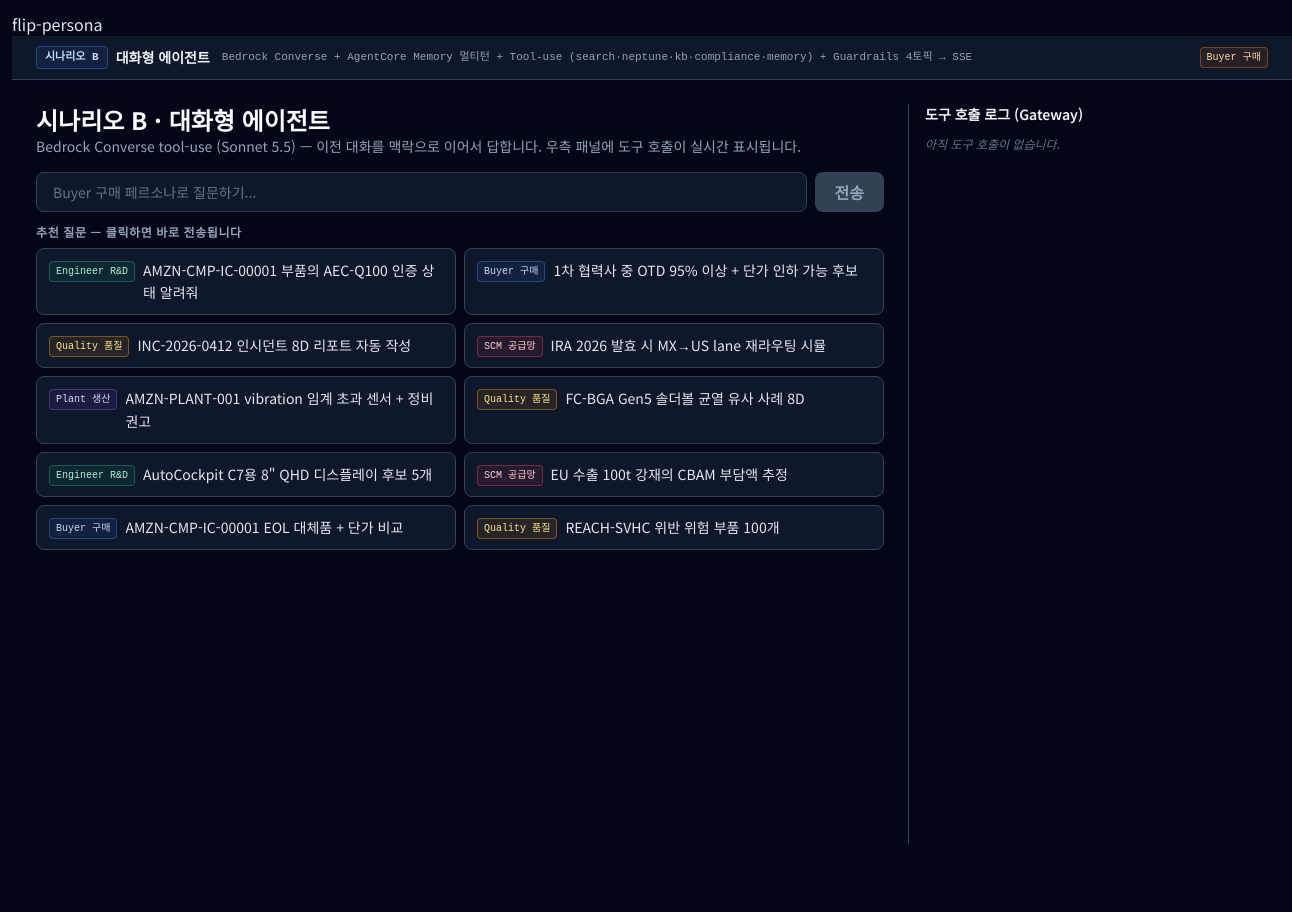
ChatPage › renders backend `error` events instead of an empty assistant bubble
Click the button "Buyer 구매 1차 협력사 중 OTD 95% 이상 + 단가 인하 가능 후보": click(674, 281) [464,248,884,315]
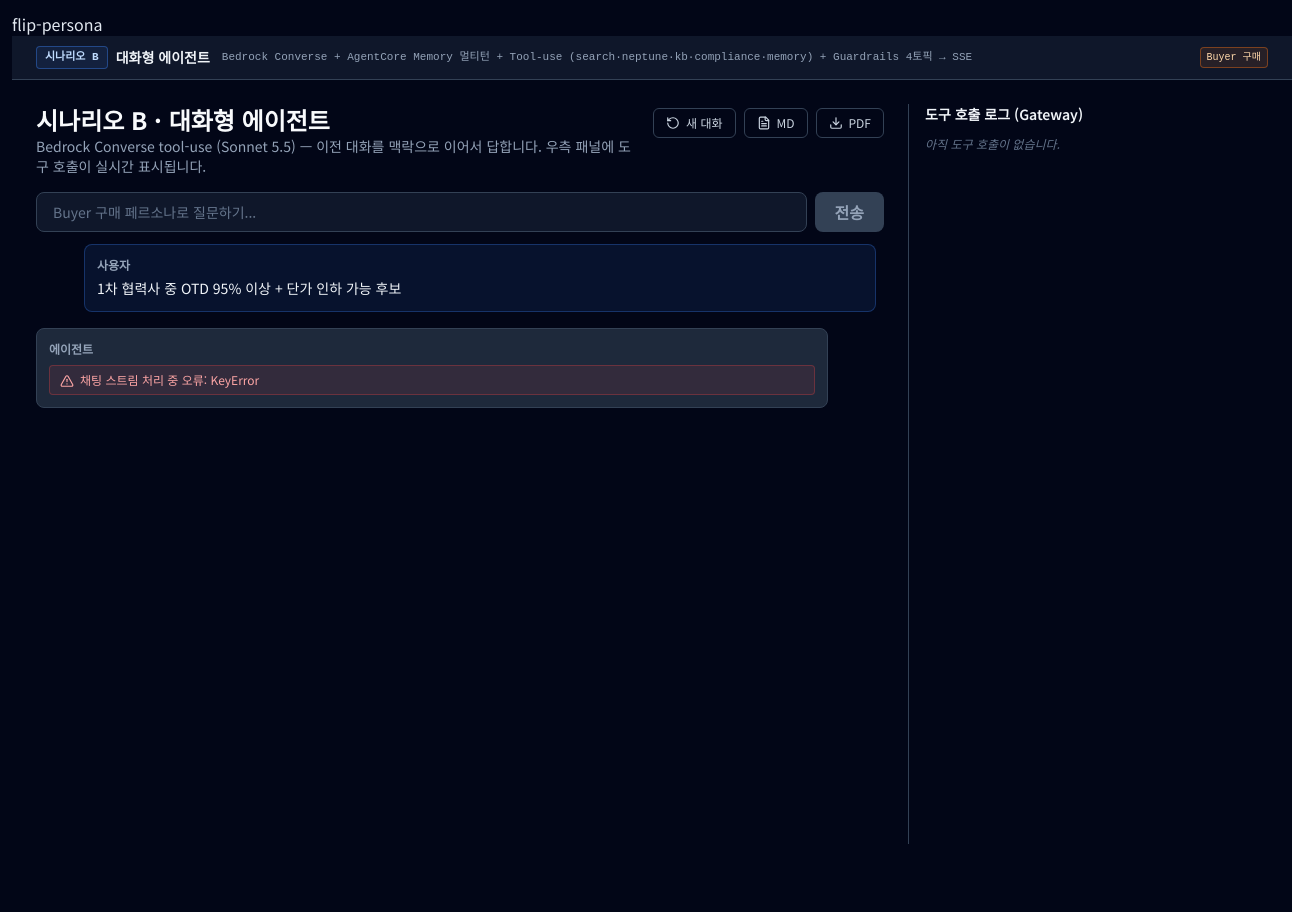
Expected: the text "채팅 스트림 처리 중 오류: KeyError" is shown, [80,372,259,388]
